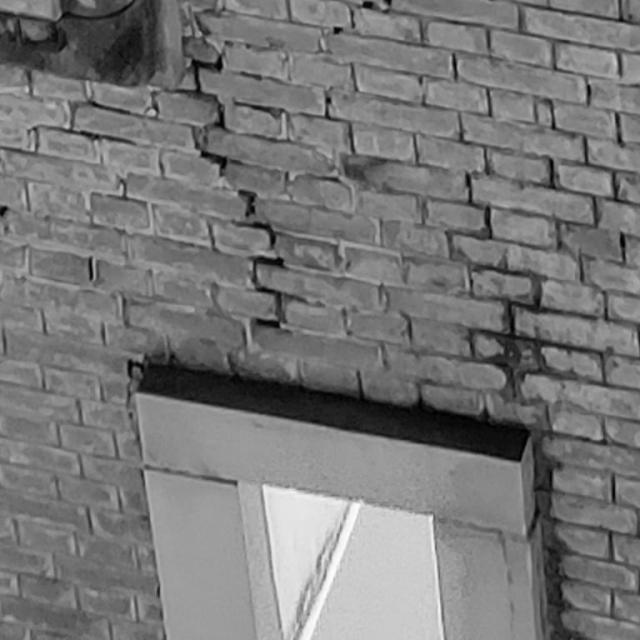crack: (190, 53, 283, 329)
